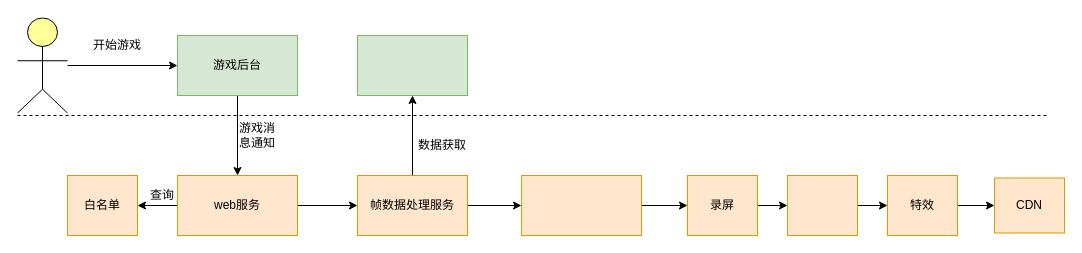
Some shapes in this 1082 by 253 pixel diagram are drawn without their labels. Each missing label, with the centre of its shape:
游戏客户端 回放数据: point 581,205
游戏数据: point 412,65
视频剪辑: point 822,205
